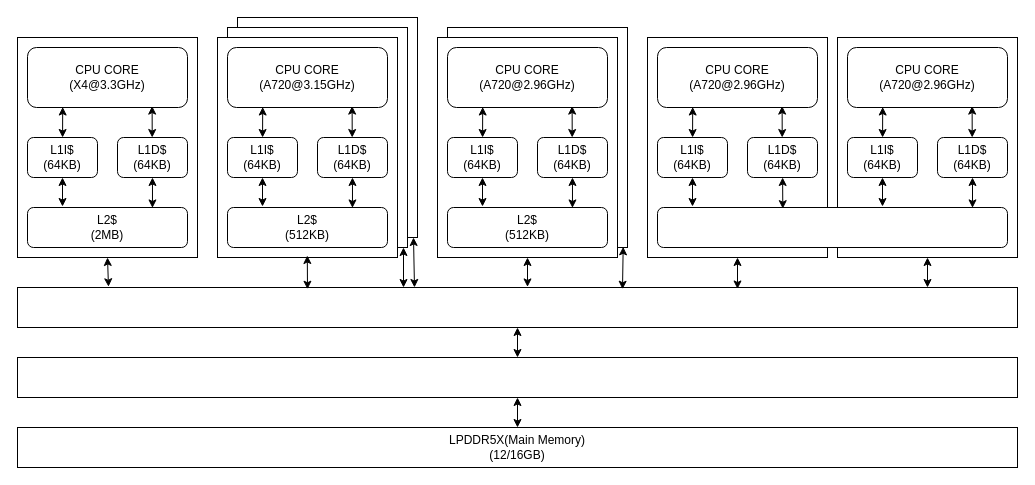
The diagram is 1035 pixels wide and 485 high, and some of its shapes have lost their labels. Each missing label, with the centre of its shape:
"L2$ (share 512KB)" goes at pixel 832 227.
"L3$ (12MB)" goes at pixel 517 307.
"SLC (System Level Cache) (6MB)" goes at pixel 517 377.
